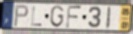3: (88, 6, 103, 29)
F: (65, 4, 83, 30)
G: (49, 5, 65, 29)
I: (105, 6, 112, 31)
L: (30, 5, 42, 28)
P: (13, 4, 30, 28)
